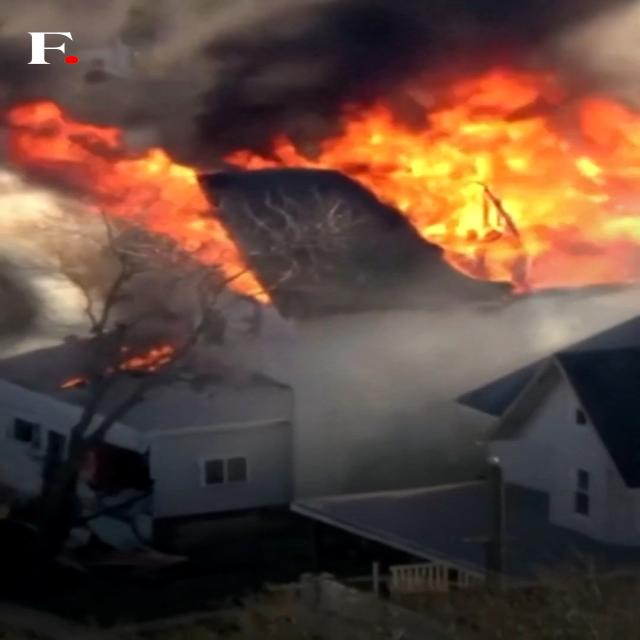helmet: (330, 69, 640, 292), (4, 102, 280, 310)
no_helmet: (95, 0, 338, 158), (90, 0, 640, 68)
